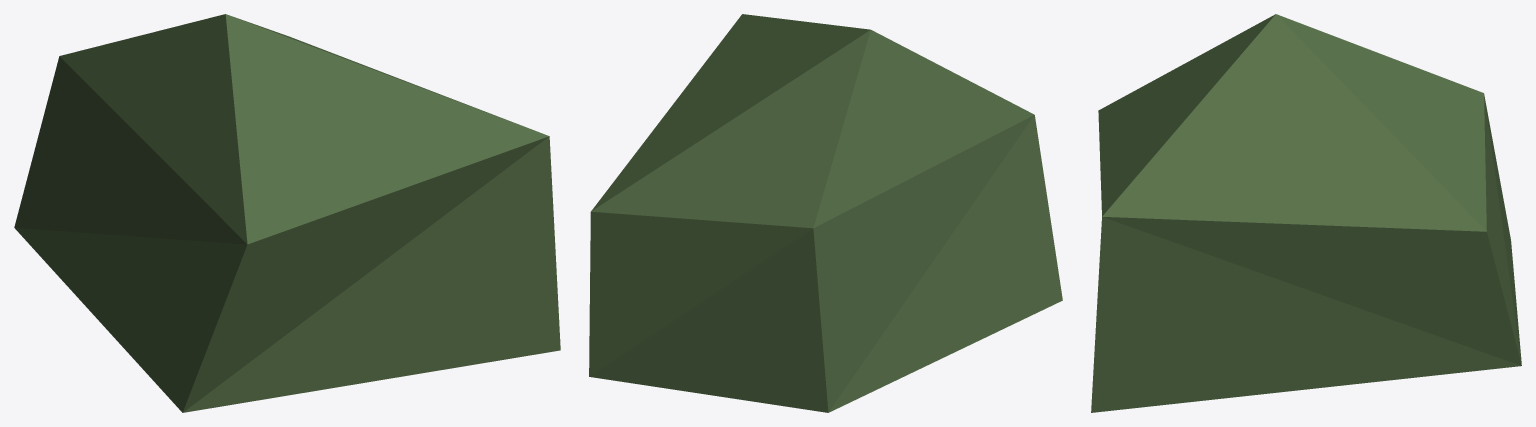
File: Bush_1.lod3.glb
The picture shows the model from 3 angles, left to right: view 1: azimuth 30°, elevation 25°; view 2: azimuth 150°, elevation 25°; view 3: azimuth 270°, elevation 25°; orthographic projection. The views are drawn at different scales.
Visible parts, largest first — view 1: Bush_1; view 2: Bush_1; view 3: Bush_1.
Part boxes in pixels (bbox=[...]): Bush_1: bbox=[14, 14, 560, 412]; Bush_1: bbox=[589, 14, 1062, 412]; Bush_1: bbox=[1091, 14, 1521, 412].
Bounding box in the file's own units: 1.22 × 1.04 × 1.39.
